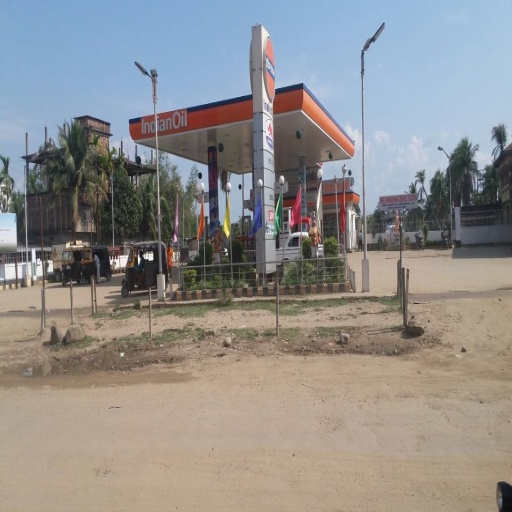roof: (128, 87, 357, 170)
